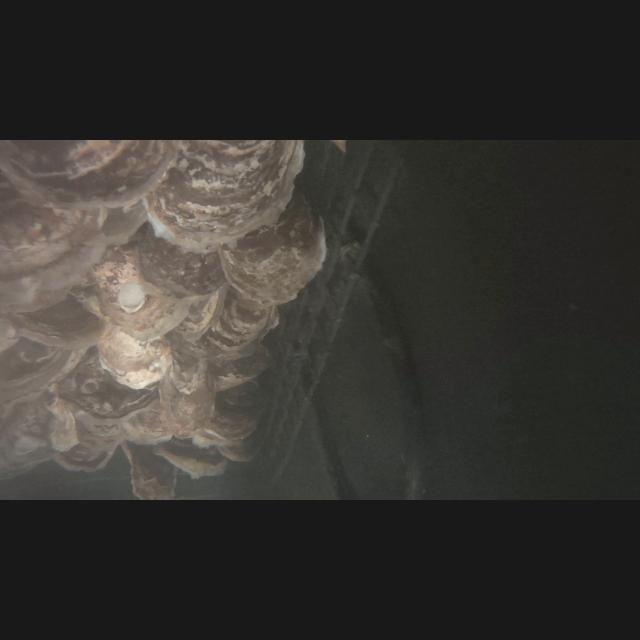Oyster-Closed: (0, 171, 146, 311), (146, 140, 304, 252), (70, 243, 196, 341), (218, 193, 326, 304), (0, 140, 176, 207), (55, 346, 157, 426), (135, 222, 225, 298), (159, 330, 215, 438), (194, 288, 276, 358), (0, 338, 86, 402), (96, 324, 172, 390), (192, 381, 262, 447), (207, 338, 269, 390), (122, 442, 176, 501), (174, 286, 226, 342), (122, 398, 172, 444), (217, 438, 255, 462)
Oyster-Open: (9, 294, 103, 350), (152, 439, 228, 479)
